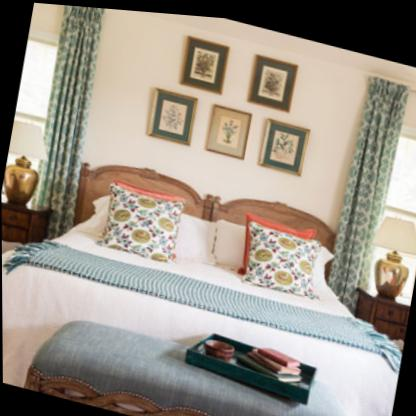Bed: (1, 144, 408, 416)
Curtains: (326, 69, 407, 307), (31, 4, 105, 238)
Frame: (144, 82, 199, 144), (247, 47, 298, 109), (178, 30, 228, 92), (258, 112, 310, 171), (203, 97, 252, 158)
